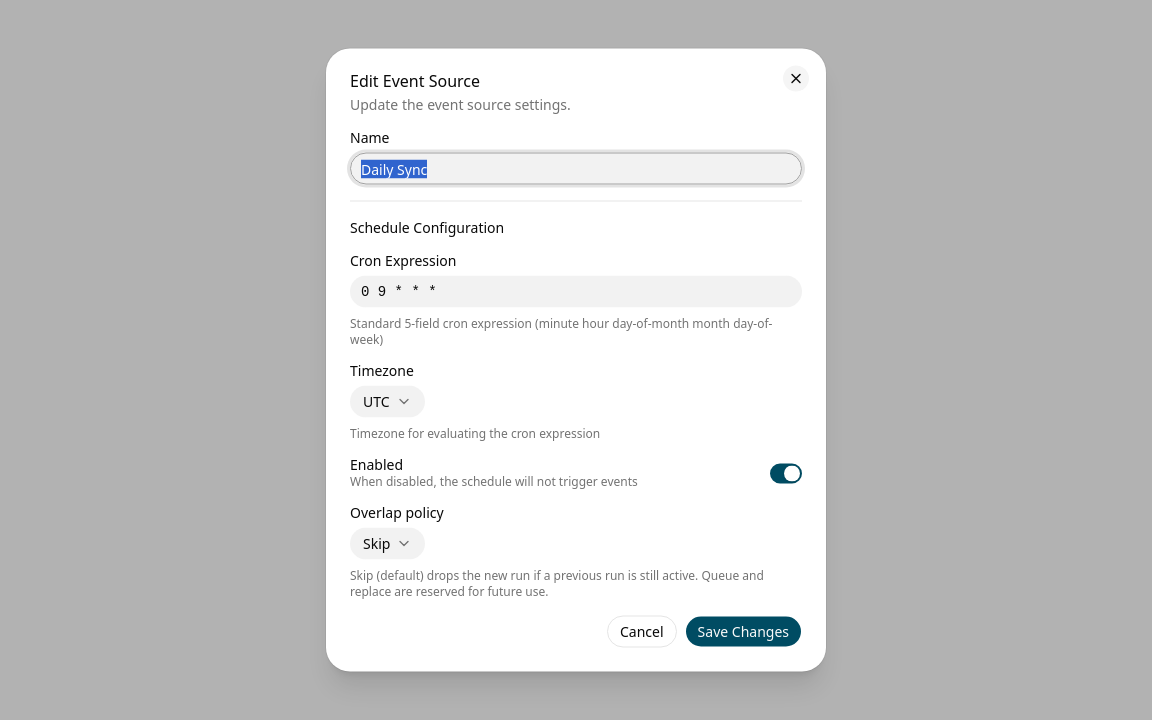
Test case: EditEventSourceDialog — schedule › surfaces a validation error when cron is cleared on submit
This screenshot has width=1152, height=720.
Clear the field labelled "Cron Expression". click: (576, 292)
box: x1=350 y1=276 x2=802 y2=308
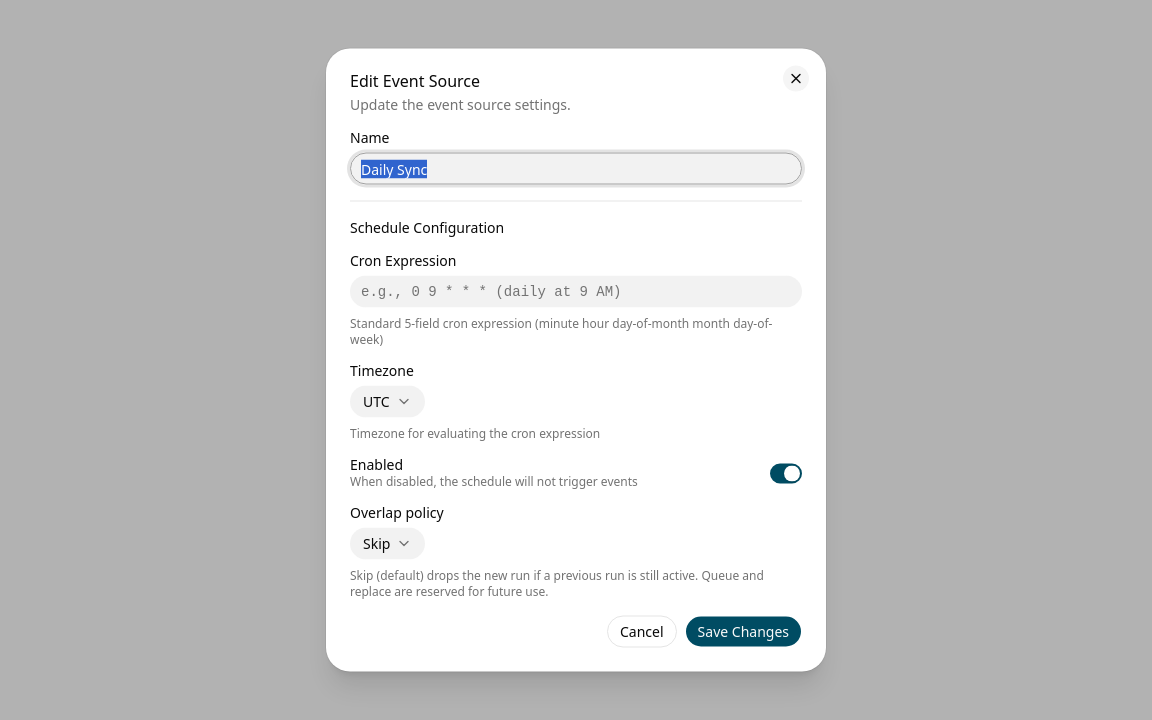
Click the button "Save Changes". click: (743, 632)
box: x1=685 y1=616 x2=802 y2=648
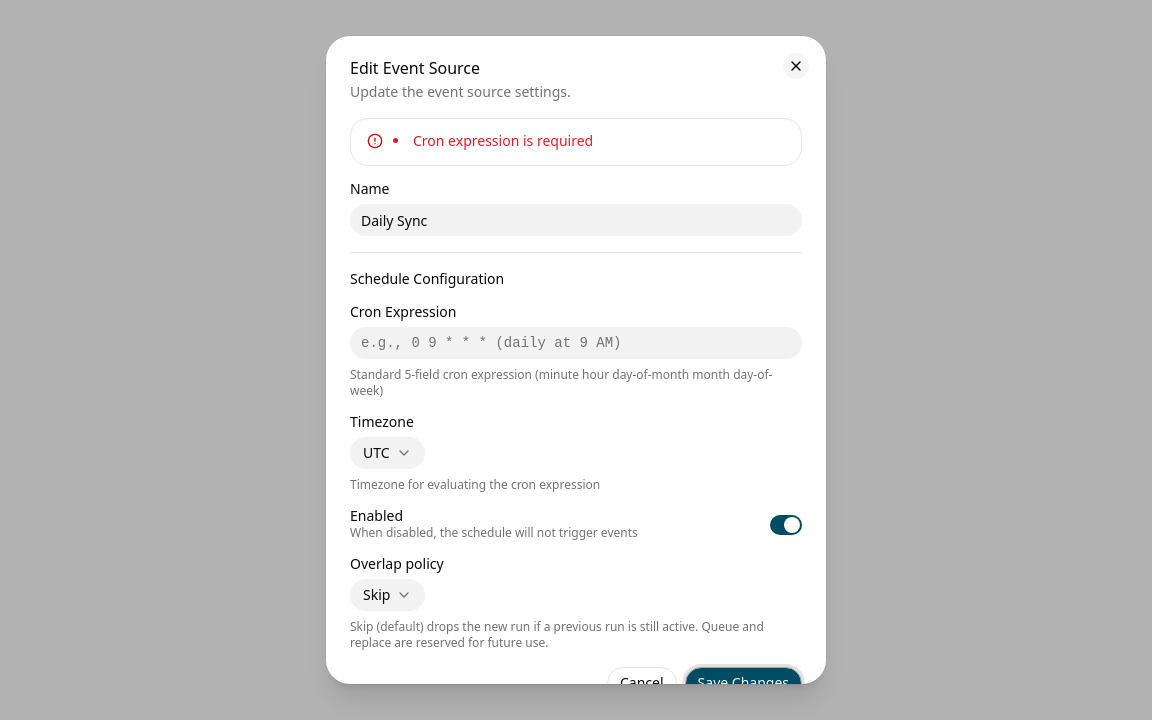
Expected: the list item "Cron expression is required" is shown, x1=413 y1=131 x2=593 y2=150
